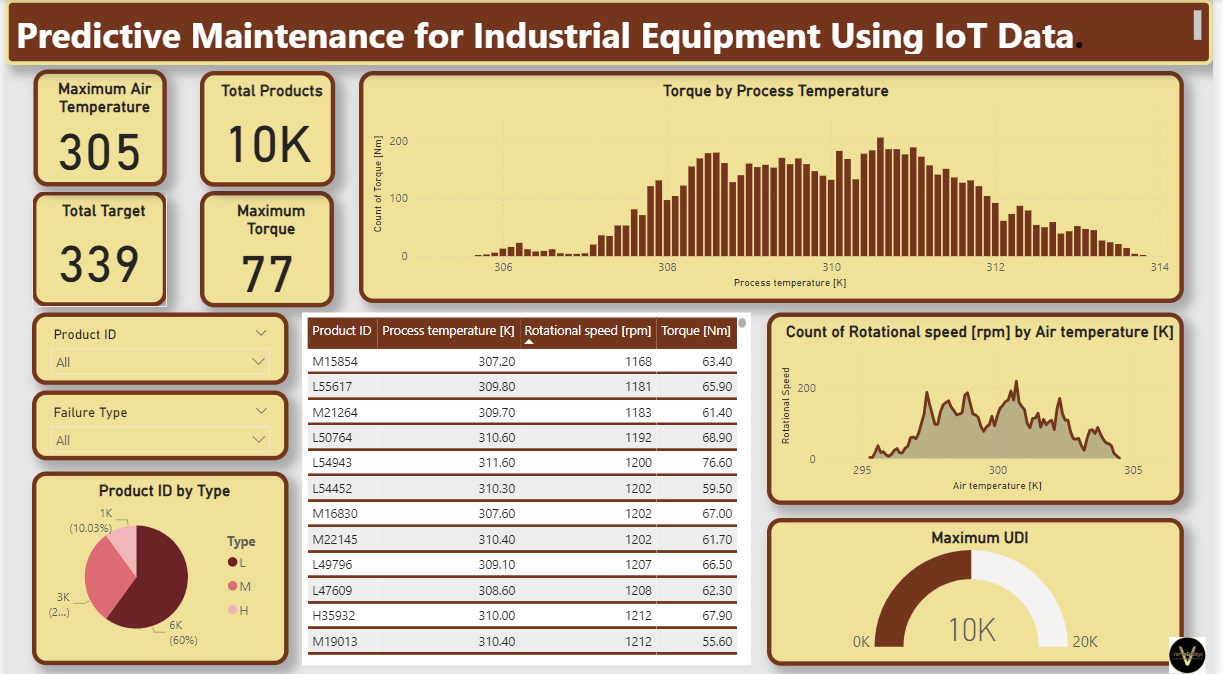

The dashboard page shown, as its layout file describes it:
{"tool":"powerbi","page":{"name":"Page 1","canvas":[1280,720],"ordinal":0},"visuals":[{"type":"gauge","title":"Maximum UDI","fields":{"Y":["Max(predictive_maintenance(1).UDI)"]},"box":[808.8,549.9,442.2,156.9],"z":0},{"type":"lineChart","fields":{"Category":["predictive_maintenance(1).Air temperature [K]"],"Y":["Count(predictive_maintenance(1).Rotational speed [rpm])"]},"box":[808.8,332.6,442.2,204.1],"z":1000},{"type":"pieChart","title":"Product ID by Type","fields":{"Y":["CountNonNull(predictive_maintenance(1).Product ID)"],"Category":["predictive_maintenance(1).Type"]},"box":[28.6,501,272,205.2],"z":2000},{"type":"actionButton","box":[0,0,100,40],"z":3000},{"type":"lineStackedColumnComboChart","title":"Torque by Process Temperature","fields":{"Category":["predictive_maintenance(1).Process temperature [K]"],"Y":["Count(predictive_maintenance(1).Torque [Nm])"]},"box":[376.1,75.6,875,245.7],"z":4000},{"type":"card","title":"Total Target","fields":{"Values":["Sum(predictive_maintenance(1).Target)"]},"box":[28.6,203.6,143.2,122.5],"z":5000},{"type":"card","title":"Maximum Air Temperature","fields":{"Values":["Max(predictive_maintenance(1).Air temperature [K])"]},"box":[30.2,74.8,141.6,124.1],"z":6000},{"type":"card","title":"Maximum Torque","fields":{"Values":["Max(predictive_maintenance(1).Torque [Nm])"]},"box":[206.7,203.3,141.7,123.3],"z":7000},{"type":"slicer","fields":{"Values":["predictive_maintenance(1).Product ID"]},"box":[28.3,331.7,271.7,76.7],"z":8000},{"type":"textbox","box":[0,0,1280.4,70],"z":9000},{"type":"tableEx","fields":{"Values":["predictive_maintenance(1).Product ID","predictive_maintenance(1).Process temperature [K]","predictive_maintenance(1).Rotational speed [rpm]","predictive_maintenance(1).Torque [Nm]"]},"box":[315.6,332.6,476.2,374.2],"z":10000},{"type":"slicer","fields":{"Values":["predictive_maintenance(1).Failure Type"]},"box":[28.3,415.8,272.1,73.7],"z":11000},{"type":"card","title":"Total Products","fields":{"Values":["CountNonNull(predictive_maintenance(1).Product ID)"]},"box":[206,75.6,143.6,122.8],"z":12000},{"type":"image","box":[1226.4,671.2,54.1,49.3],"z":12001}]}

Visuals, with their boxes in screenshot pixels (x1, y1, x2, y2), scaled from the page's 1280x720 canvas onto the 1223x674 screenshot:
"Maximum UDI" gauge: {"x1": 773, "y1": 515, "x2": 1195, "y2": 662}
lineChart - predictive_maintenance(1).Air temperature [K] x Count(predictive_maintenance(1).Rotational speed [rpm]): {"x1": 773, "y1": 311, "x2": 1195, "y2": 502}
"Product ID by Type" pieChart: {"x1": 27, "y1": 469, "x2": 287, "y2": 661}
actionButton: {"x1": 0, "y1": 0, "x2": 96, "y2": 37}
"Torque by Process Temperature" lineStackedColumnComboChart: {"x1": 359, "y1": 71, "x2": 1195, "y2": 301}
"Total Target" card: {"x1": 27, "y1": 191, "x2": 164, "y2": 305}
"Maximum Air Temperature" card: {"x1": 29, "y1": 70, "x2": 164, "y2": 186}
"Maximum Torque" card: {"x1": 197, "y1": 190, "x2": 333, "y2": 306}
slicer - predictive_maintenance(1).Product ID: {"x1": 27, "y1": 311, "x2": 287, "y2": 382}
textbox: {"x1": 0, "y1": 0, "x2": 1222, "y2": 66}
tableEx - predictive_maintenance(1).Product ID x predictive_maintenance(1).Process temperature [K]: {"x1": 302, "y1": 311, "x2": 757, "y2": 662}
slicer - predictive_maintenance(1).Failure Type: {"x1": 27, "y1": 389, "x2": 287, "y2": 458}
"Total Products" card: {"x1": 197, "y1": 71, "x2": 334, "y2": 186}
image: {"x1": 1172, "y1": 628, "x2": 1222, "y2": 673}
